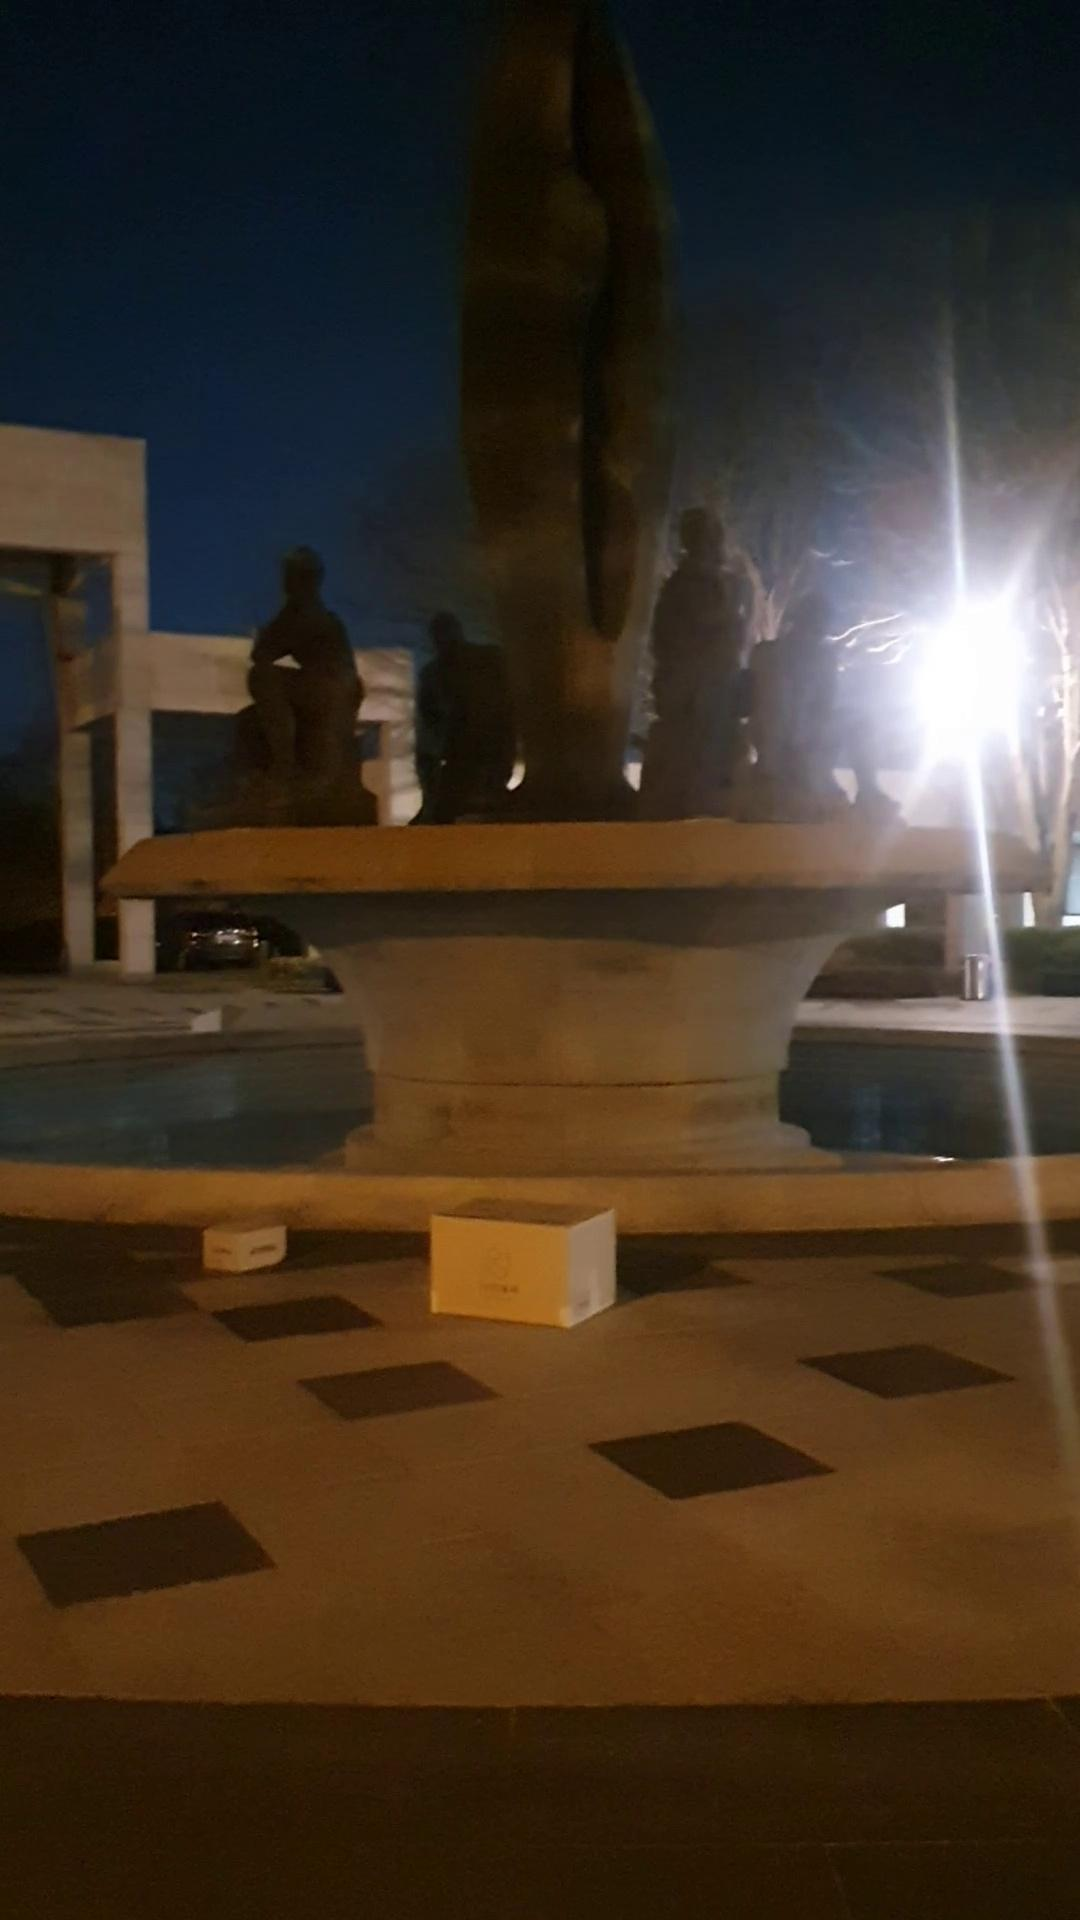Box: (421, 1180, 620, 1331), (203, 1203, 301, 1294)
